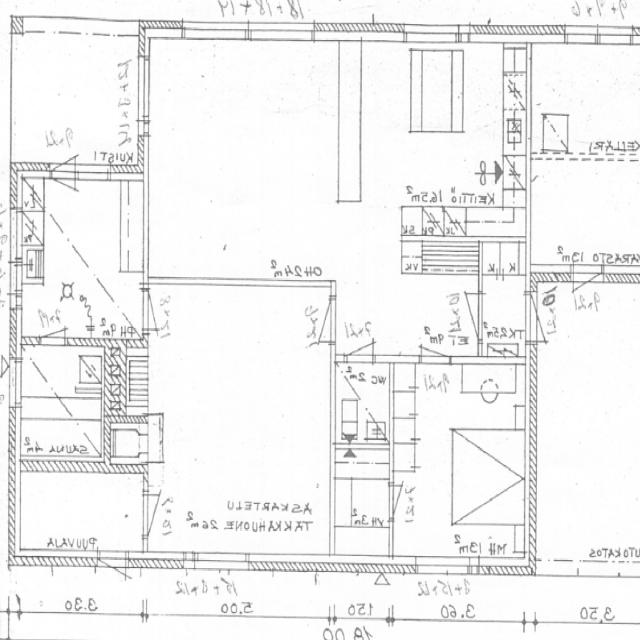door: (524, 292, 570, 343), (95, 556, 127, 626), (572, 263, 604, 332), (48, 120, 76, 183), (48, 162, 76, 224), (447, 293, 483, 341), (420, 310, 451, 365), (40, 294, 68, 348), (146, 288, 180, 332), (344, 313, 372, 365), (388, 484, 421, 523)
